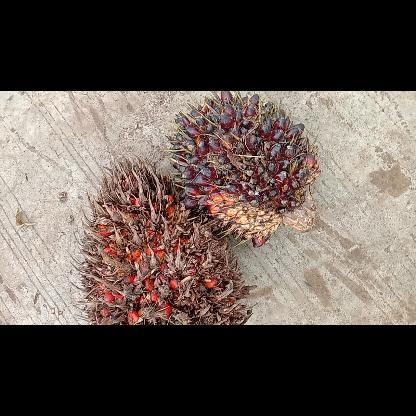TBS mentah: (164, 91, 320, 247)
Terlalu masak: (70, 152, 256, 324)
